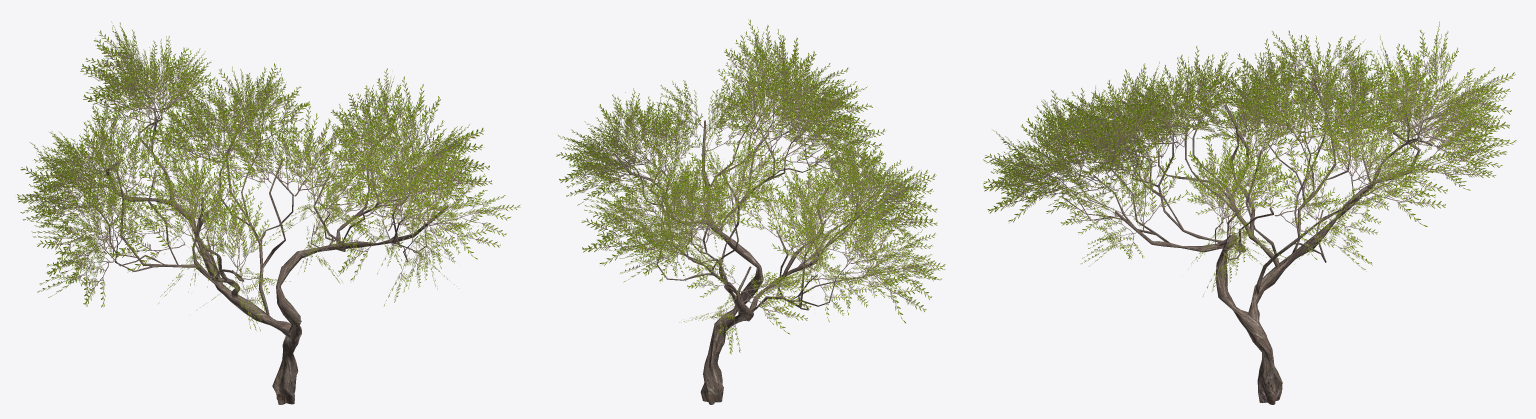
Rendered from acacia.glb.
3 renders of one model, left to right at view 1: azimuth 30°, elevation 25°; view 2: azimuth 150°, elevation 25°; view 3: azimuth 270°, elevation 25°, orthographic. The views are drawn at different scales.
Visible parts, largest first — view 1: tree; view 2: tree; view 3: tree.
Boxes of the visible parts, box(x1,y1,x2,y2) form: tree: box(17, 21, 520, 404); tree: box(556, 19, 945, 404); tree: box(983, 21, 1516, 404).
Bounding box in the file's own units: 294 × 220 × 317.
2 materials, 2 textured.
